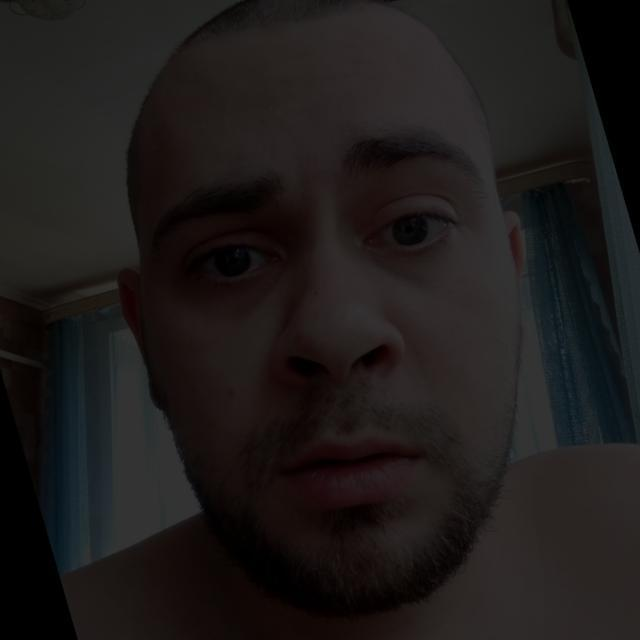Surprised: (112, 42, 592, 608)
